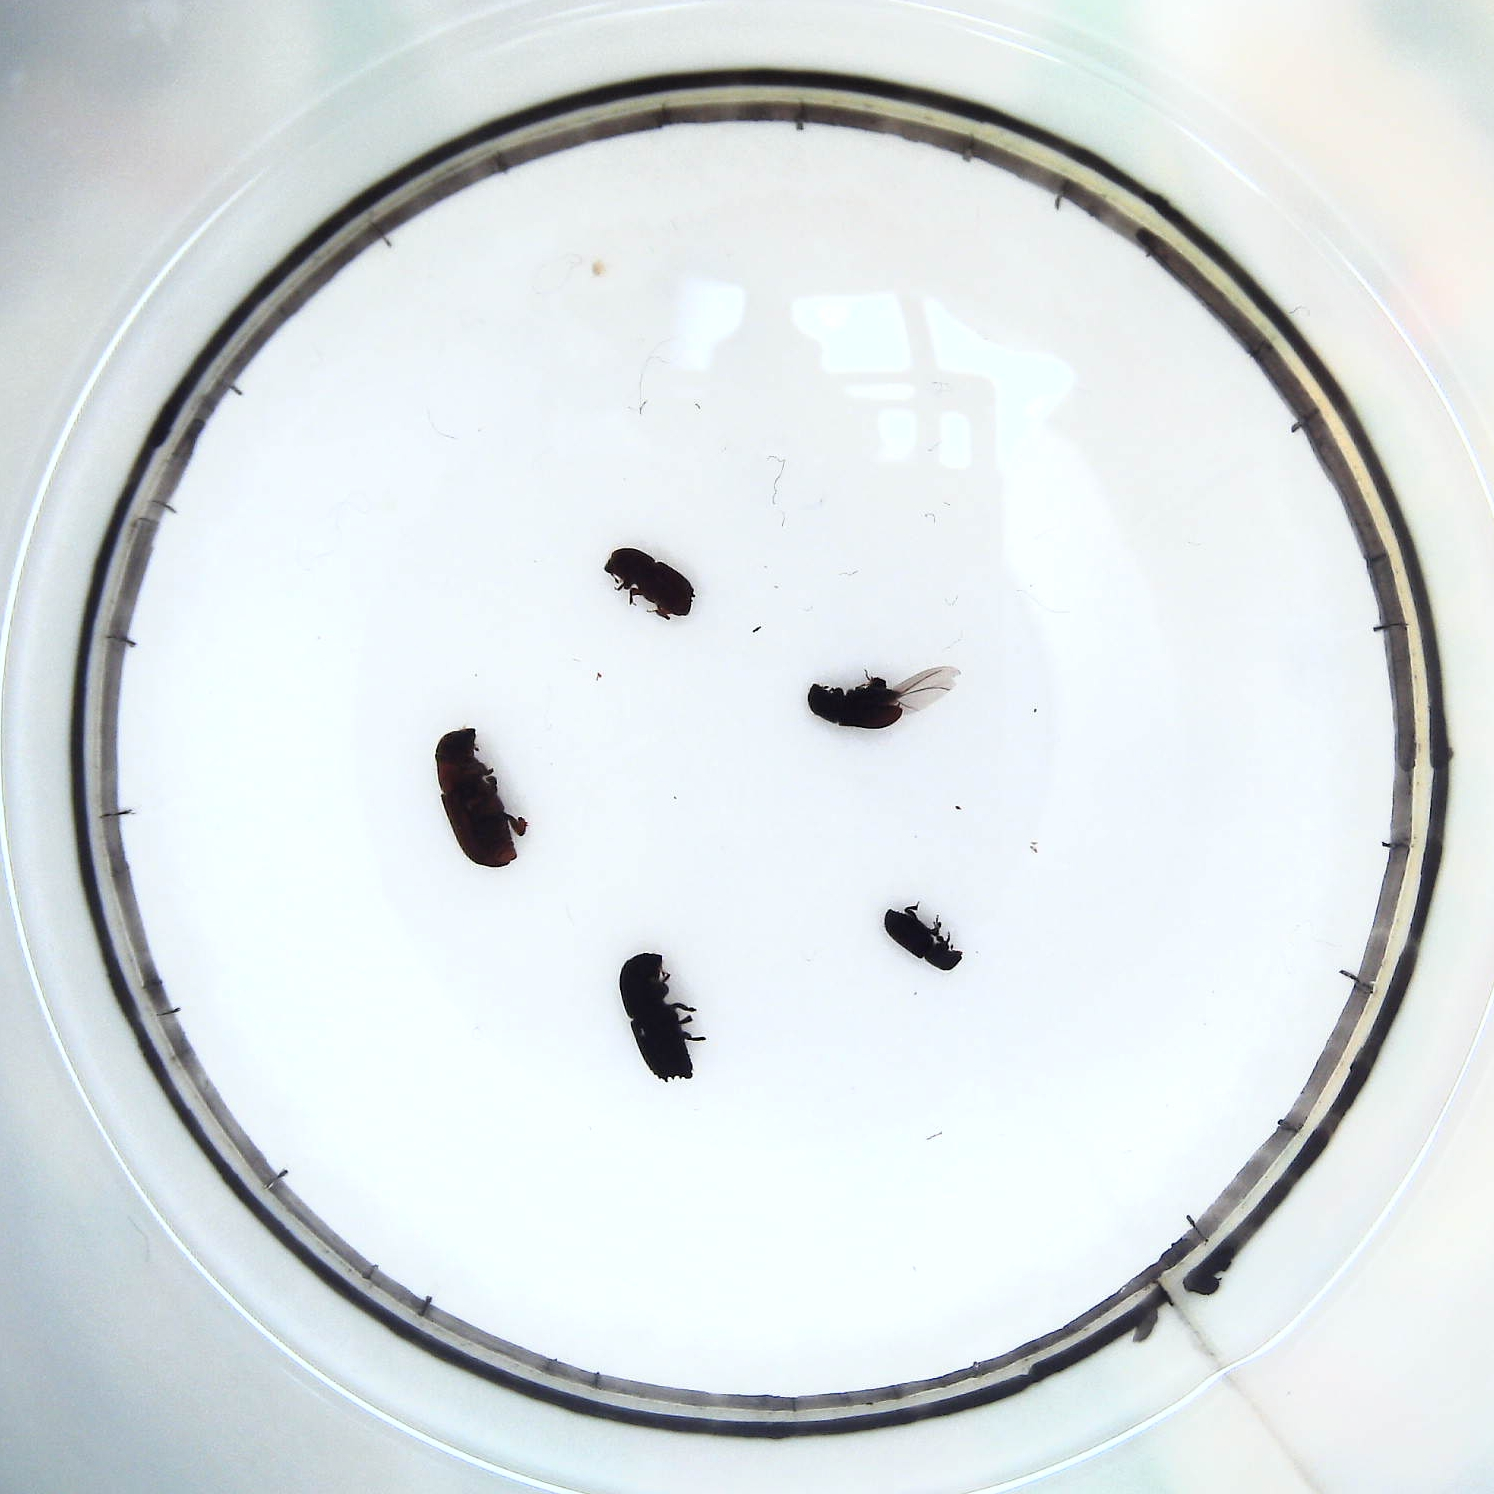Boerner: (616, 951, 711, 1084)
Leconte: (430, 724, 535, 876)
armandi: (800, 661, 960, 736)
coleoptera: (882, 900, 962, 978)
linnaeus: (601, 545, 696, 624)
